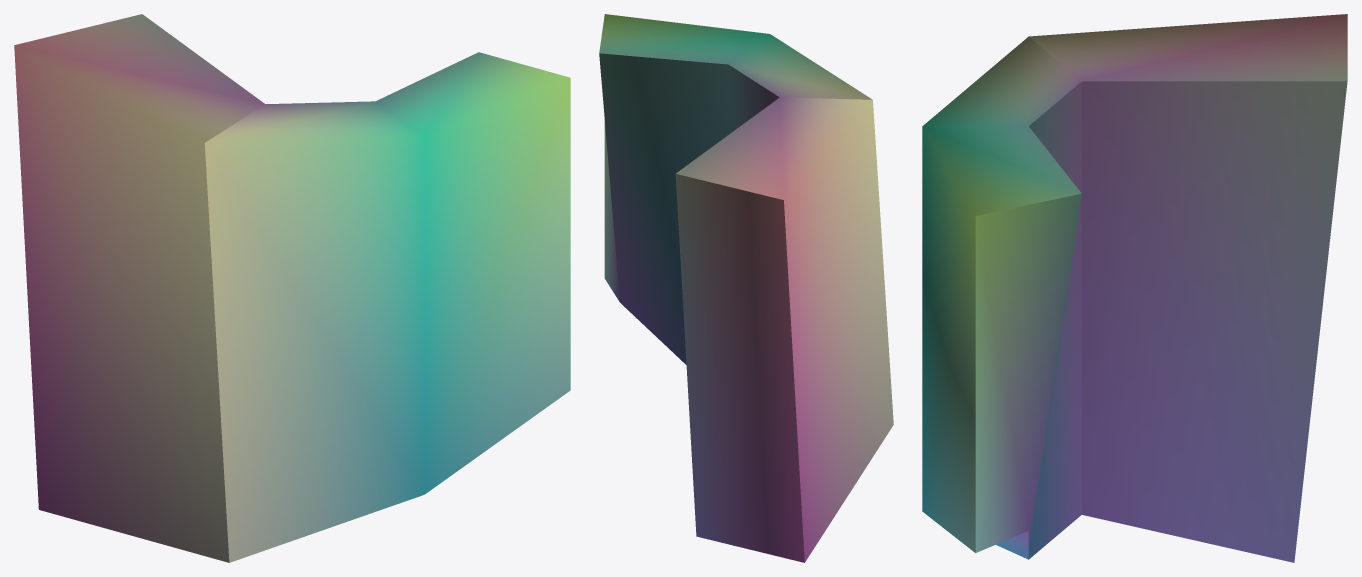
3 views of the same model, side by side, from view 1: azimuth 30°, elevation 25°; view 2: azimuth 150°, elevation 25°; view 3: azimuth 270°, elevation 25° (orthographic). The views are drawn at different scales.
Visible parts, largest first — view 1: part; view 2: part; view 3: part.
Boxes of the visible parts, box(x1,y1,x2,y2) form: part: box(14, 14, 570, 562); part: box(599, 14, 893, 562); part: box(922, 14, 1347, 562).
Size of the model in its own units: 9 by 10 by 8.
